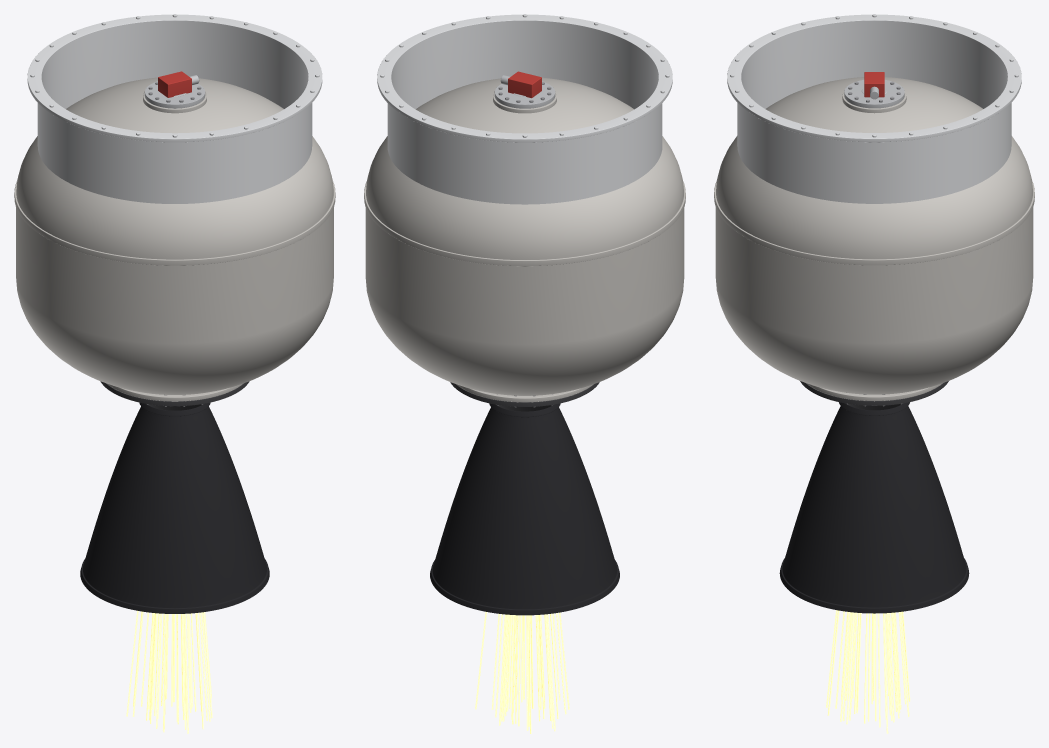
The picture shows the model from 3 angles, left to right: view 1: azimuth 30°, elevation 25°; view 2: azimuth 150°, elevation 25°; view 3: azimuth 270°, elevation 25°; orthographic projection.
Visible parts, largest first — view 1: SM_Case, SM_AttachRing, SM_ExitCone, SM_FLOW_HotGas, SM_Throat, SM_Igniter, SM_SafeArm; view 2: SM_Case, SM_AttachRing, SM_ExitCone, SM_FLOW_HotGas, SM_Throat, SM_Igniter, SM_SafeArm; view 3: SM_Case, SM_AttachRing, SM_ExitCone, SM_FLOW_HotGas, SM_Igniter, SM_Throat, SM_SafeArm.
Part boxes in pixels (x1=…): SM_Case: x1=14, y1=77, x2=335, y2=401; SM_AttachRing: x1=27, y1=14, x2=322, y2=203; SM_ExitCone: x1=80, y1=402, x2=269, y2=613; SM_FLOW_HotGas: x1=126, y1=610, x2=212, y2=733; SM_Throat: x1=100, y1=381, x2=249, y2=410; SM_Igniter: x1=144, y1=81, x2=205, y2=108; SM_SafeArm: x1=158, y1=71, x2=199, y2=97; SM_Case: x1=364, y1=77, x2=685, y2=402; SM_AttachRing: x1=377, y1=14, x2=672, y2=204; SM_ExitCone: x1=430, y1=403, x2=619, y2=615; SM_FLOW_HotGas: x1=475, y1=612, x2=569, y2=733; SM_Throat: x1=450, y1=382, x2=599, y2=411; SM_Igniter: x1=494, y1=81, x2=555, y2=108; SM_SafeArm: x1=500, y1=71, x2=541, y2=98; SM_Case: x1=714, y1=77, x2=1034, y2=401; SM_AttachRing: x1=727, y1=14, x2=1021, y2=203; SM_ExitCone: x1=779, y1=402, x2=969, y2=613; SM_FLOW_HotGas: x1=826, y1=610, x2=910, y2=733; SM_Igniter: x1=844, y1=80, x2=904, y2=108; SM_Throat: x1=800, y1=381, x2=948, y2=410; SM_SafeArm: x1=861, y1=72, x2=887, y2=99.
Bounding box in the file's own units: 1.25 × 2.75 × 1.25.
